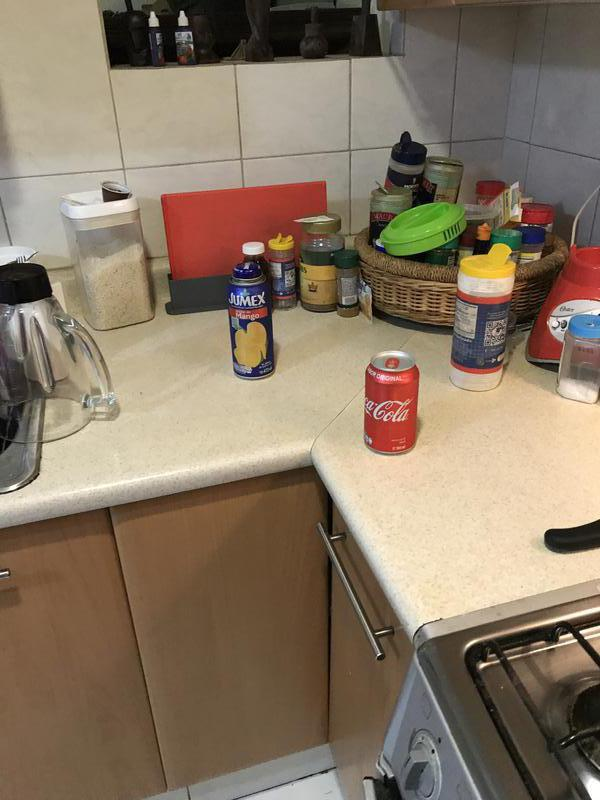coca_cola: (361, 354, 421, 458)
jugo_jumex: (225, 262, 280, 379)
